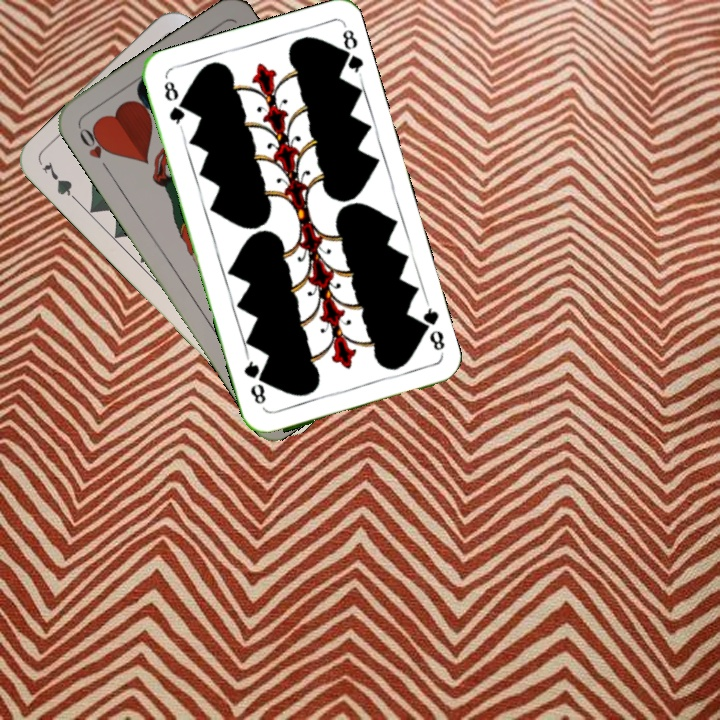G7: (38, 157, 84, 208)
G8: (414, 300, 448, 354), (160, 76, 188, 132)
HO: (74, 122, 115, 175)
